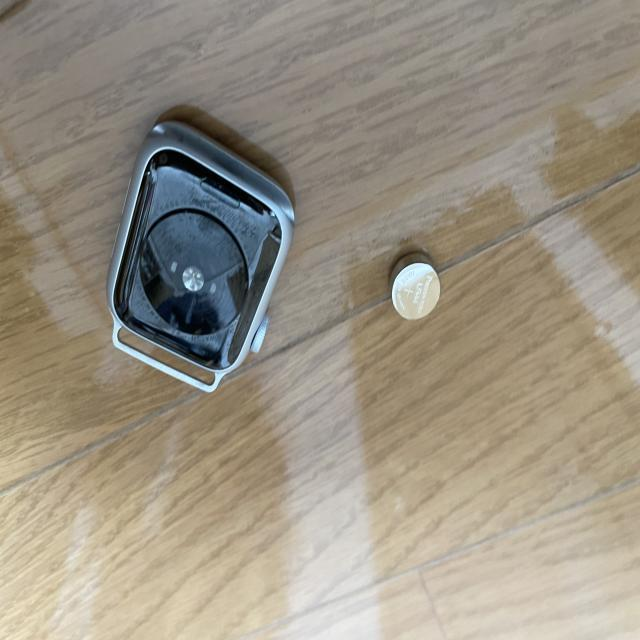COIN: (389, 257, 443, 322)
